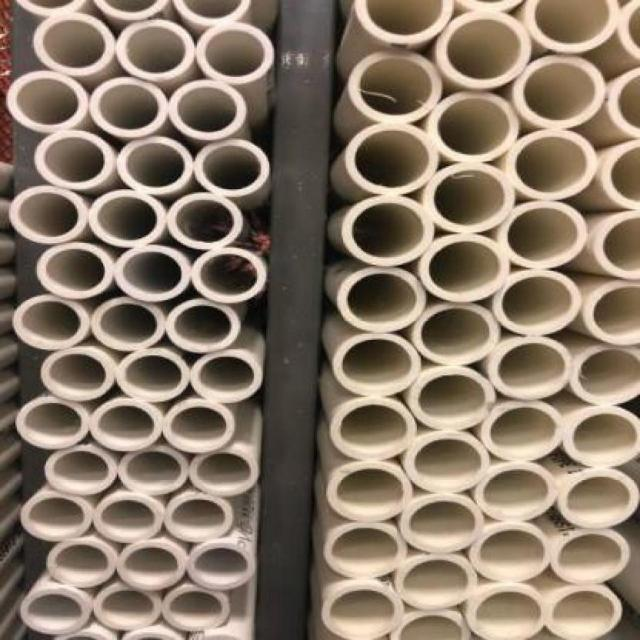pipe: (435, 10, 531, 89), (344, 122, 440, 195), (348, 50, 442, 124), (512, 55, 606, 129), (340, 194, 434, 267), (505, 128, 598, 201), (423, 162, 515, 235), (429, 91, 519, 162), (497, 201, 587, 271), (419, 233, 510, 302), (492, 269, 580, 336), (337, 268, 425, 333), (413, 303, 501, 366), (332, 333, 420, 396), (408, 368, 496, 430), (330, 398, 418, 460), (33, 12, 115, 77), (325, 462, 413, 522), (487, 337, 572, 399), (404, 433, 491, 493), (6, 70, 88, 132), (116, 20, 196, 83), (474, 462, 559, 521), (400, 495, 485, 554), (34, 130, 116, 191), (481, 401, 563, 462), (525, 1, 619, 54), (168, 79, 248, 141), (560, 406, 639, 468), (324, 522, 409, 579), (319, 583, 404, 640), (89, 77, 168, 138), (196, 22, 273, 84), (558, 471, 640, 529), (471, 524, 551, 583), (353, 0, 455, 46), (395, 554, 477, 610), (10, 186, 87, 245), (118, 136, 194, 195), (194, 139, 270, 198), (466, 585, 548, 639), (12, 295, 91, 351), (544, 584, 624, 639), (89, 190, 166, 247), (36, 242, 113, 299), (551, 530, 630, 585), (167, 192, 242, 249), (571, 344, 639, 406), (115, 245, 190, 301), (40, 348, 116, 402), (166, 298, 240, 353), (15, 397, 91, 450), (192, 249, 266, 303), (92, 297, 166, 351), (116, 349, 189, 403), (162, 401, 235, 454), (582, 280, 639, 347), (191, 351, 262, 404), (89, 401, 162, 452), (45, 446, 118, 495), (20, 493, 93, 542), (117, 447, 188, 495), (163, 495, 234, 543), (46, 539, 117, 587), (591, 210, 639, 280), (93, 495, 163, 543), (187, 543, 256, 591), (19, 588, 90, 634), (117, 542, 185, 590), (189, 450, 258, 497), (94, 586, 164, 631), (162, 587, 230, 632), (601, 140, 640, 211), (607, 64, 640, 139), (389, 611, 471, 639), (617, 0, 640, 62)
